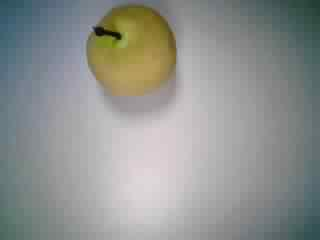pear: (77, 1, 188, 110)
